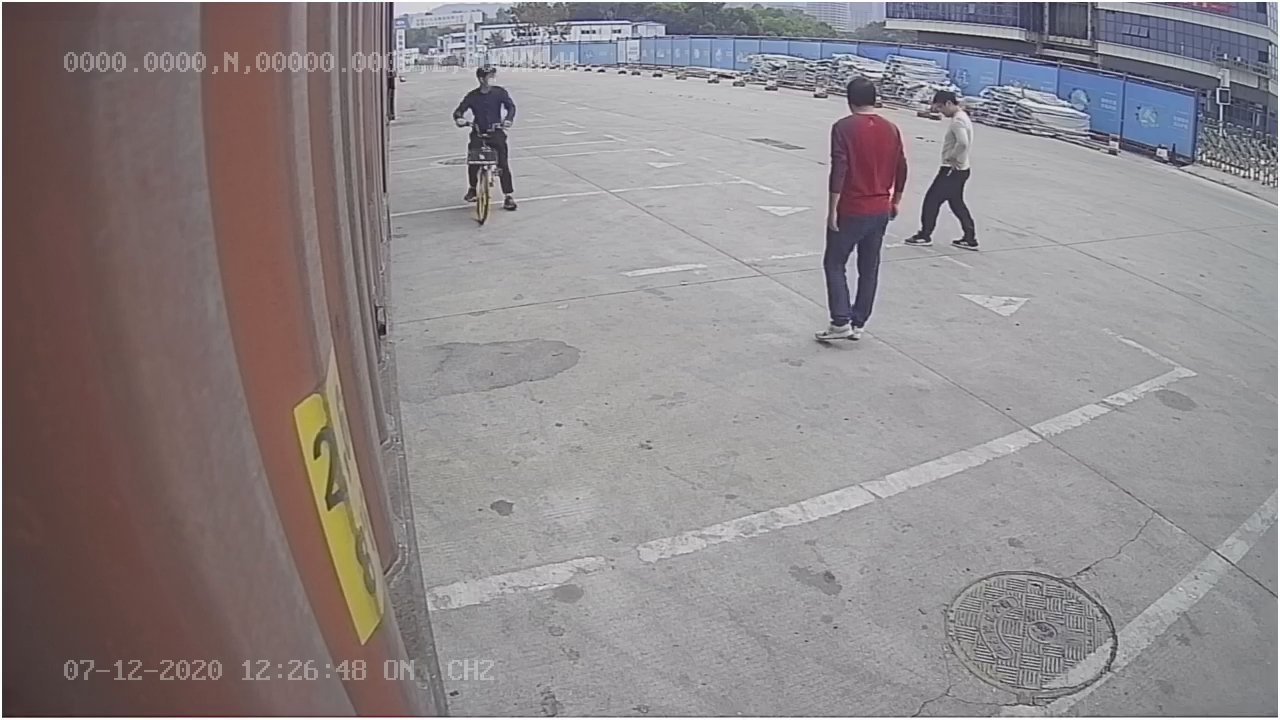person: (811, 71, 911, 354)
